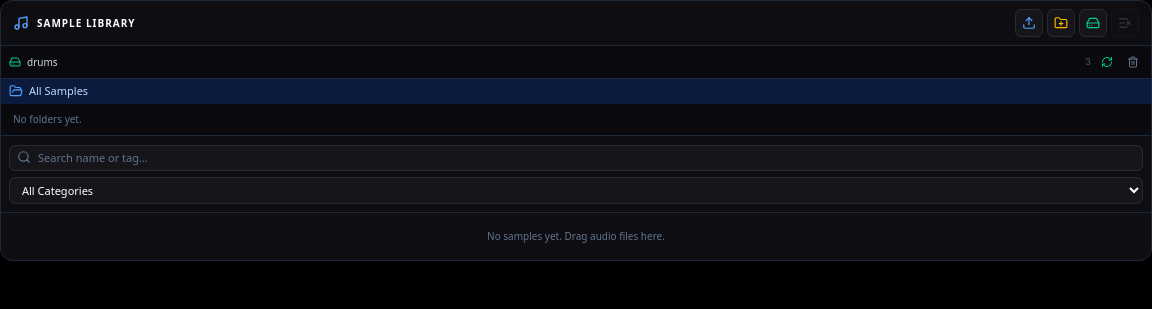
Test: SampleBrowser folder linking › reports a rescan failure
The width and height of the screenshot is (1152, 309).
Expected: the text "drums" is shown, x1=27 y1=54 x2=58 y2=68
Click the button titled "Rescan this folder" at (1107, 62), box x1=1097 y1=52 x2=1117 y2=72
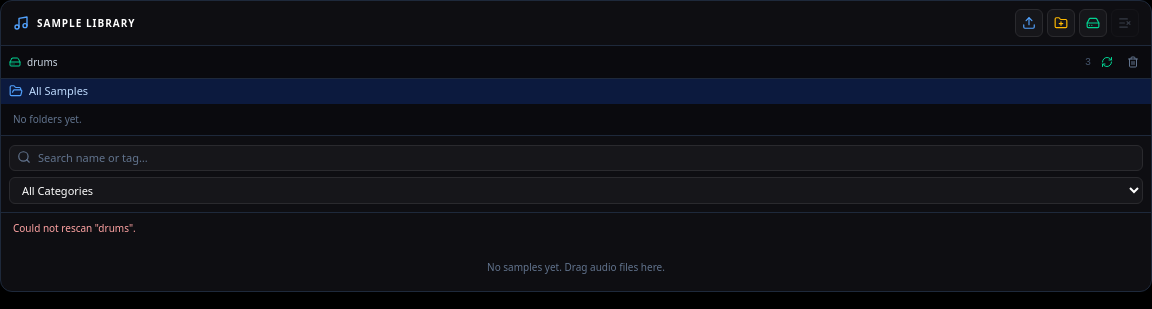
Expected: the text "Could not rescan \"drums\"." is shown, x1=13 y1=221 x2=136 y2=235
